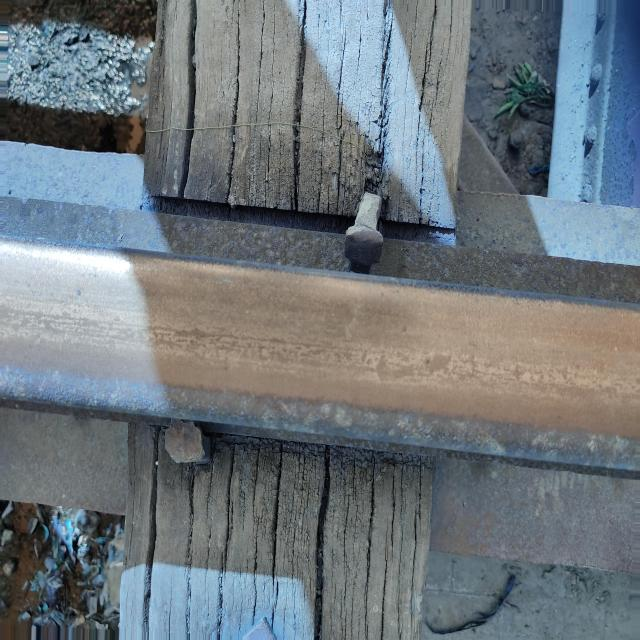Good Fasteners: (344, 193, 383, 274), (165, 420, 210, 463)
